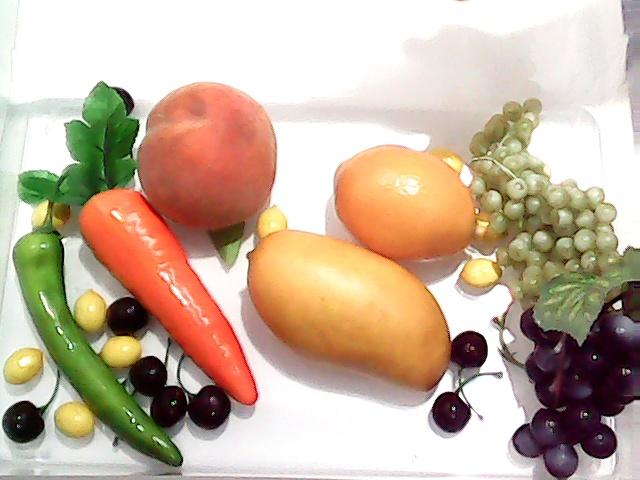carrot: (17, 77, 260, 407)
grape: (464, 96, 624, 316), (512, 255, 639, 480)
lemon: (308, 138, 510, 264)
mango: (246, 229, 454, 397)
peach: (136, 81, 278, 233)
pepper: (12, 208, 186, 466)
